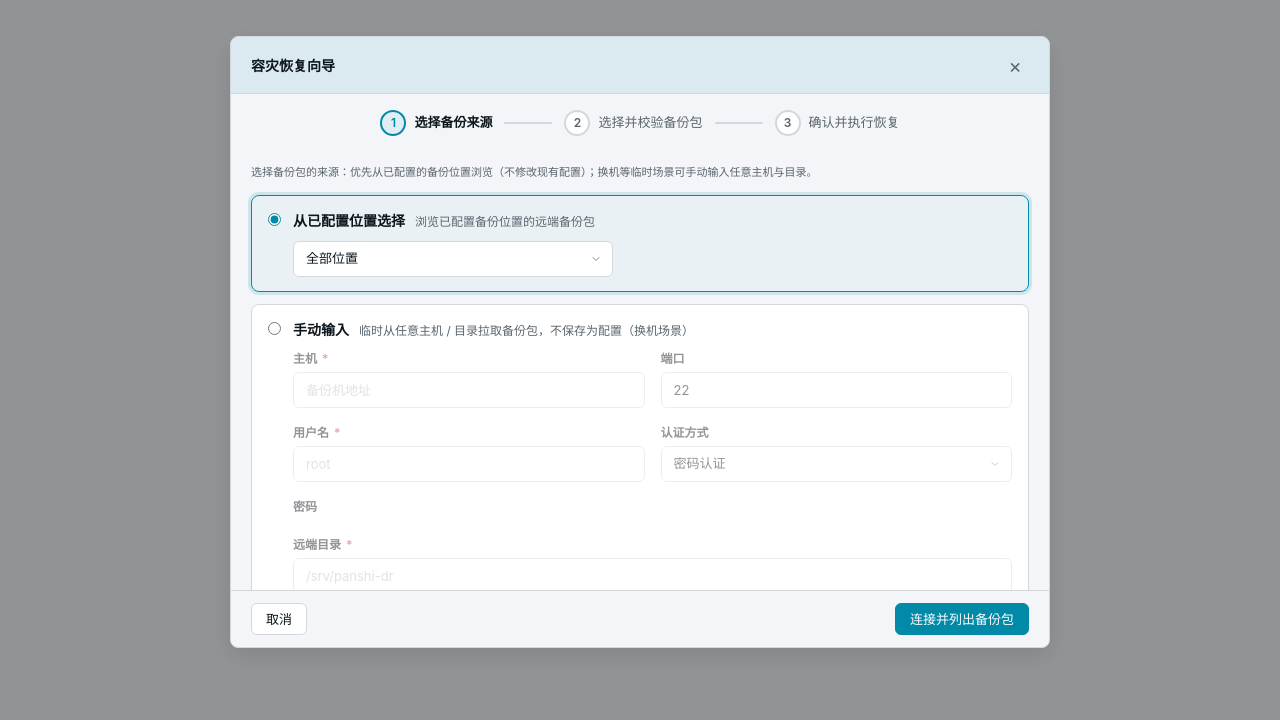
Test: H4 多位置校验来源显式选择 › 单位置静默沿用并标注来源
Click the button "连接并列出备份包".
click(962, 619)  # box [895,603,1029,635]
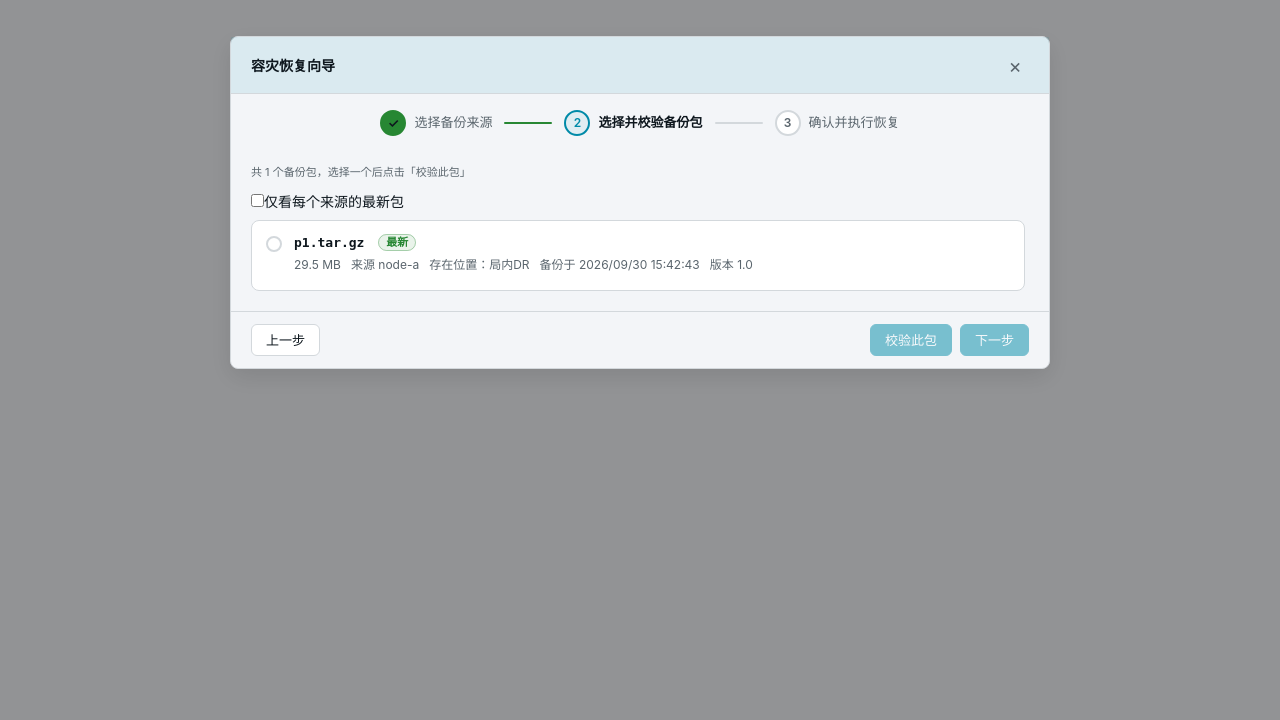
Click the radio button with class "dbw-pkg".
click(638, 255)  # box [251,220,1025,291]
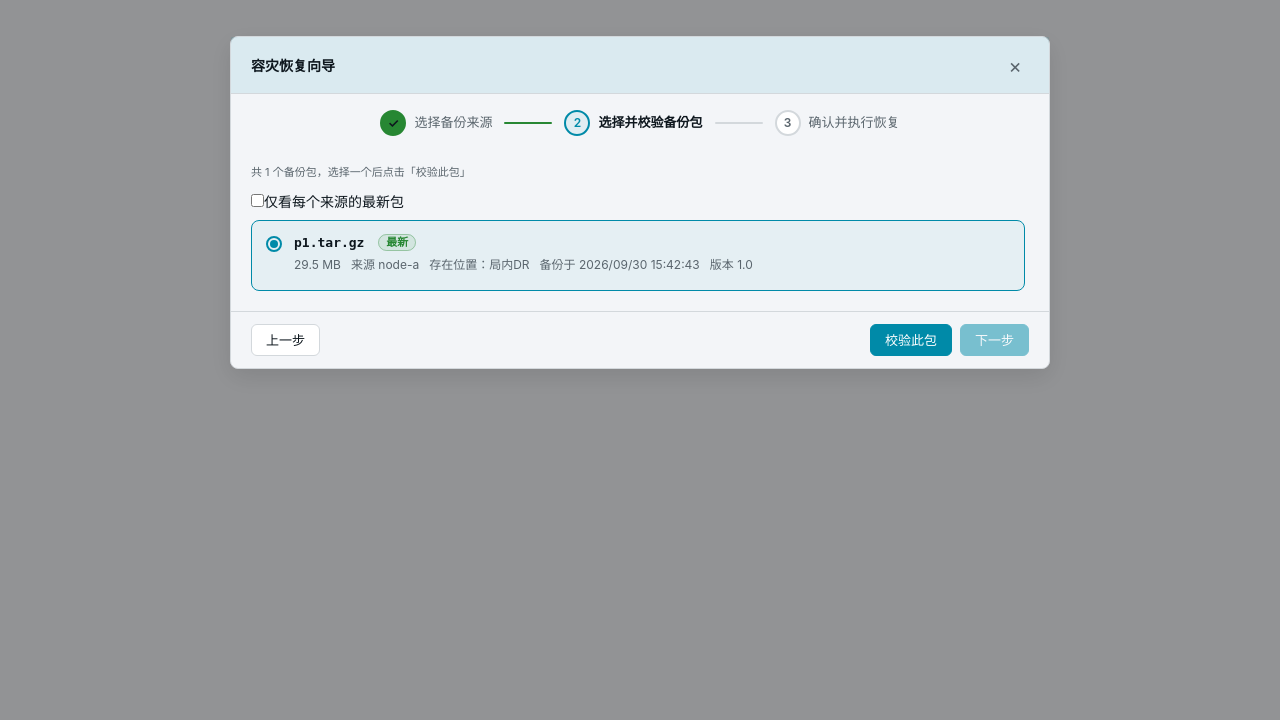
Result: the button "校验此包" is shown
Click the button "校验此包".
click(911, 340)  # box [870,324,952,356]
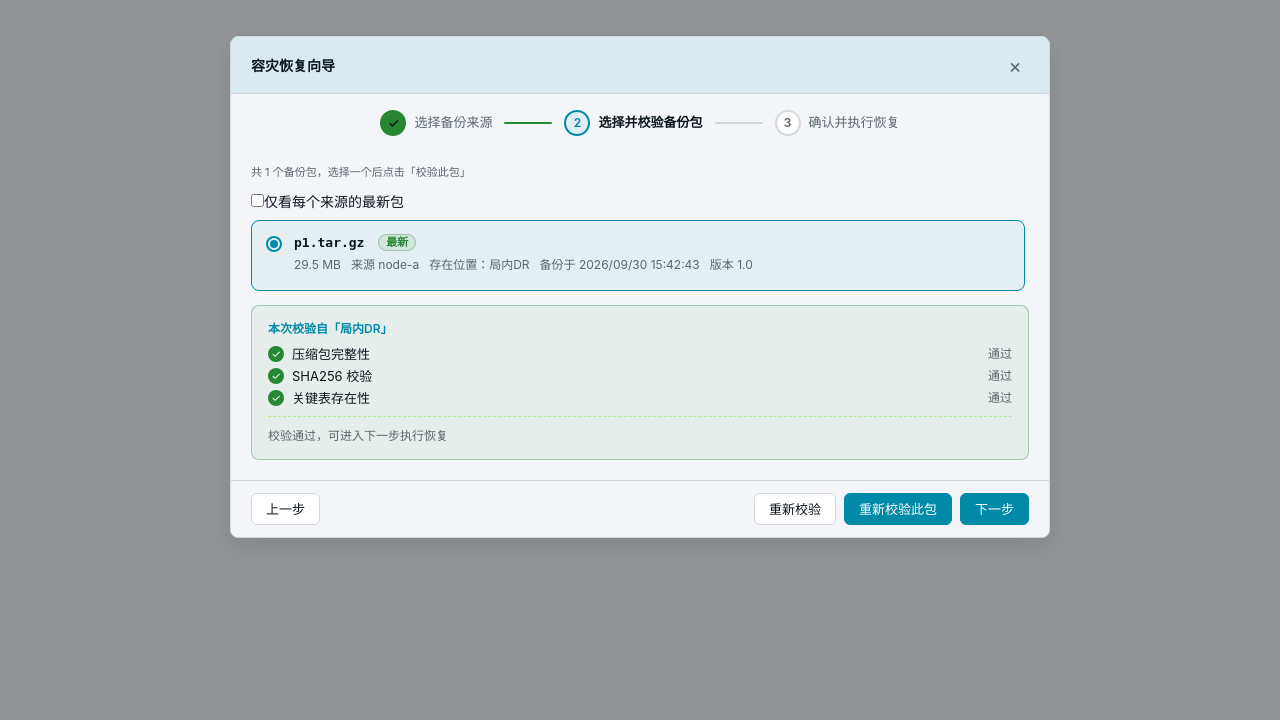
Result: the text with class "dbw-verify-src" reads "本次校验自「局内DR」" at [268,321,392,336]
